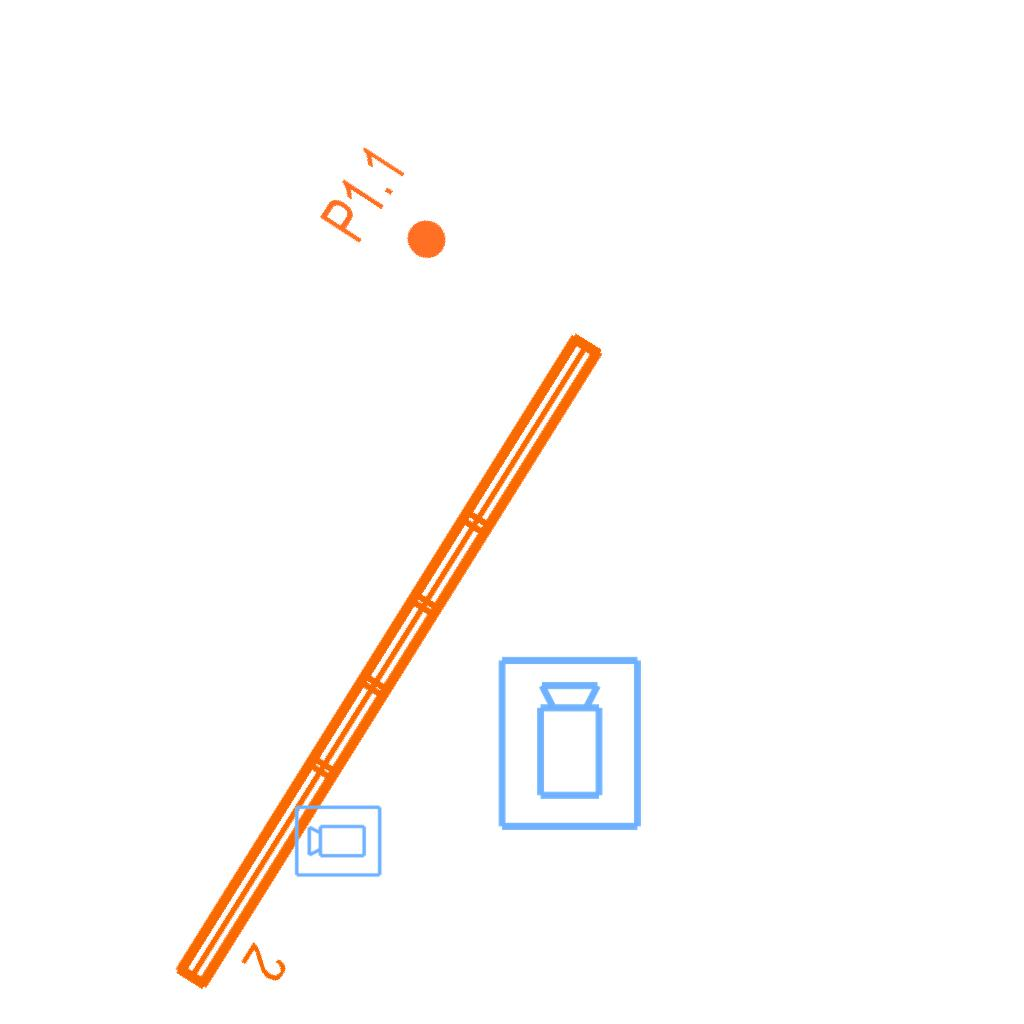Ambulanz_Pendelleuchte_LED: (158, 316, 664, 1024)
Downlight_LED_Einbauleuchten_Flur: (314, 140, 473, 288)
KFO_Kamera_mit_Festobjektiv: (494, 653, 648, 835), (293, 802, 384, 879)
